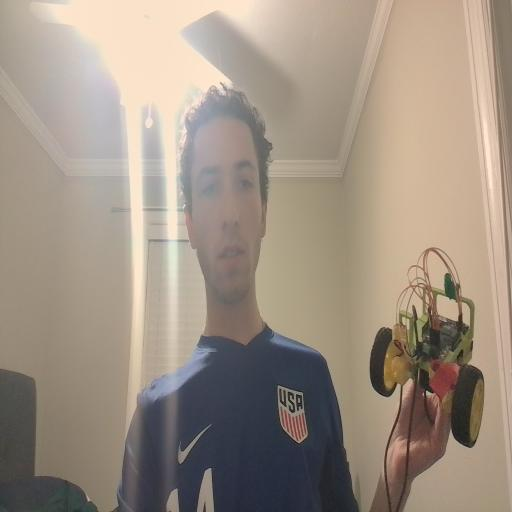green LEGO minifig: (444, 271, 461, 304)
